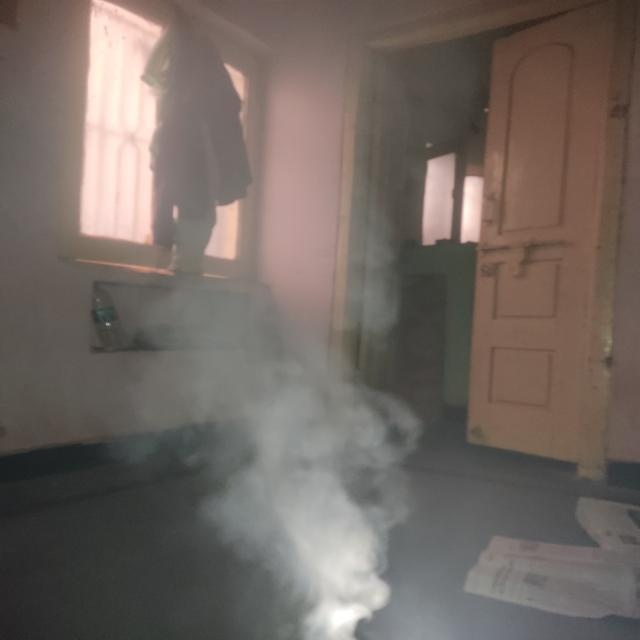smoke: (185, 311, 416, 640)
